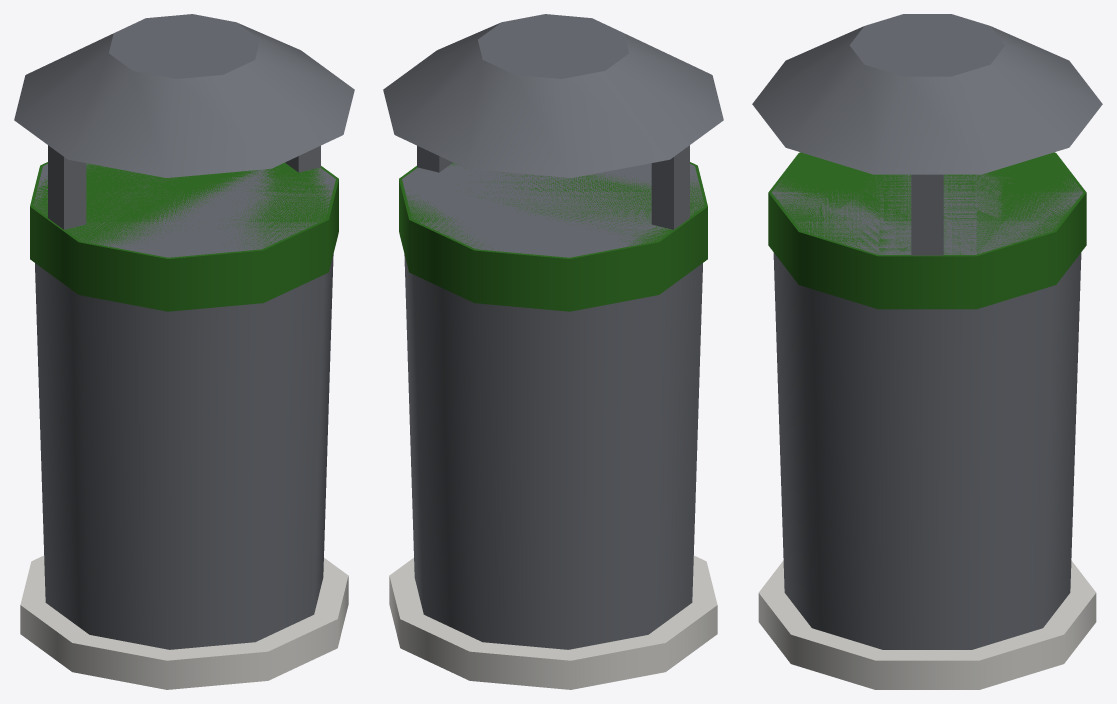
The model's file is SM_StreetBin.fbx.
3 views of the same model, side by side, from view 1: azimuth 30°, elevation 25°; view 2: azimuth 150°, elevation 25°; view 3: azimuth 270°, elevation 25° (orthographic).
Parts seen in each view (by area): view 1: SM_StreetBin; view 2: SM_StreetBin; view 3: SM_StreetBin.
Boxes of the visible parts, bbox=[...] form: SM_StreetBin: bbox=[14, 14, 354, 689]; SM_StreetBin: bbox=[383, 14, 723, 689]; SM_StreetBin: bbox=[752, 14, 1102, 689].
Size of the model in its own units: 51.36 by 98 by 54.
